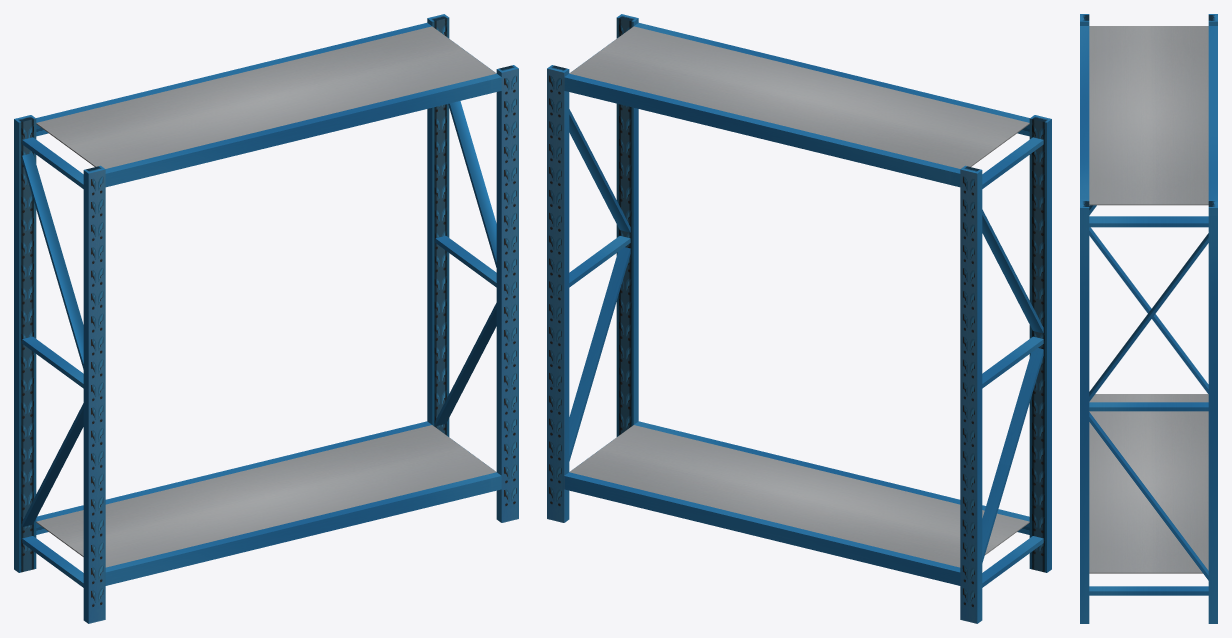
File: JIA_ZI_ER.obj
3 renders of one model, left to right at view 1: azimuth 30°, elevation 25°; view 2: azimuth 150°, elevation 25°; view 3: azimuth 270°, elevation 25°, orthographic. The views are drawn at different scales.
Parts seen in each view (by area): view 1: Mesh1; view 2: Mesh1; view 3: Mesh1.
Part boxes in pixels (x1=…): Mesh1: x1=14, y1=14, x2=518, y2=623; Mesh1: x1=547, y1=14, x2=1051, y2=623; Mesh1: x1=1080, y1=14, x2=1217, y2=623.
Bounding box in the file's own units: 2000 × 2000 × 600.
Materials: 1 (1 with a texture image).
